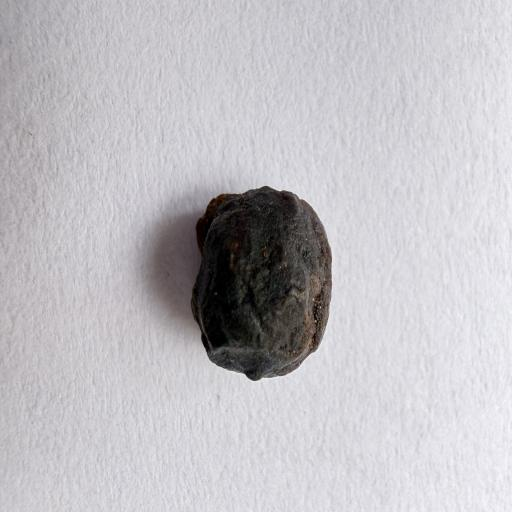Black_pepper: (180, 139, 351, 401)
